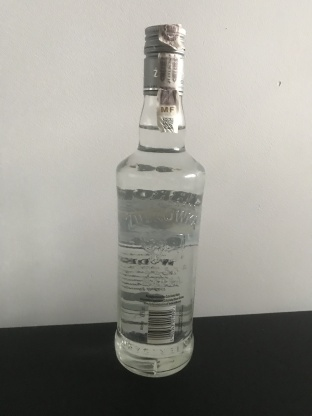nakretka: (142, 22, 187, 96)
